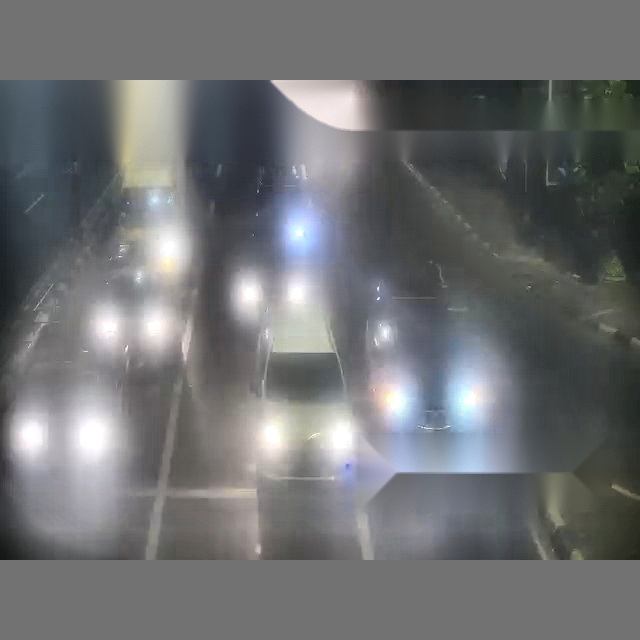Mobil: (257, 314, 355, 478)
